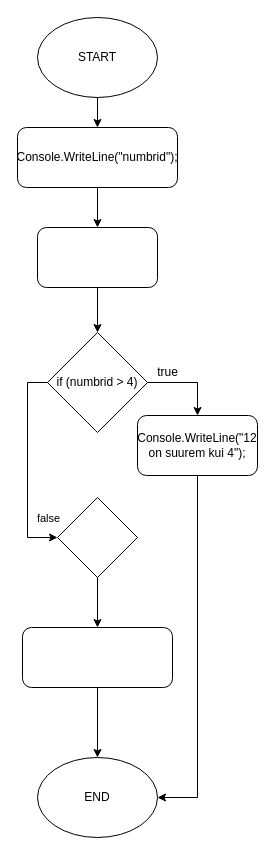
The diagram is 275 pixels wide and 855 high, and some of its shapes have lost their labels. The centre of each missing label's shape, as x and y in pixels:
Console.WriteLine("vale");: point 97,657
else: point 97,537
int numbrid = 12;: point 97,257
